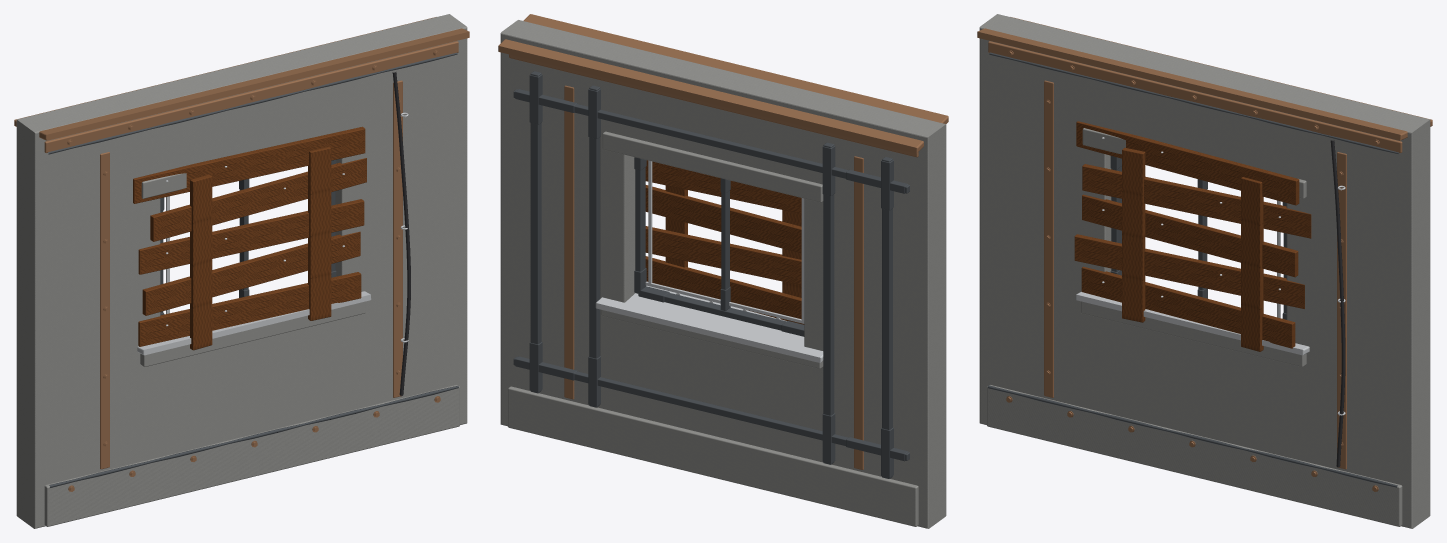
Rendered from fps-survival-forest-outpost-wall-bay-window-boarded-fd43ce84__32611.glb.
3 renders of one model, left to right at view 1: azimuth 30°, elevation 25°; view 2: azimuth 150°, elevation 25°; view 3: azimuth 330°, elevation 25°, orthographic.
Parts seen in each view (by area): view 1: wall-bay-window-boarded; view 2: wall-bay-window-boarded; view 3: wall-bay-window-boarded.
Part boxes in pixels (x1,y1,x2,y2): wall-bay-window-boarded: [14, 14, 469, 528]; wall-bay-window-boarded: [498, 14, 948, 528]; wall-bay-window-boarded: [977, 14, 1432, 528].
Bounding box in the file's own units: 4.02 × 3.54 × 0.5379.
Materials: 7 (2 with a texture image).
